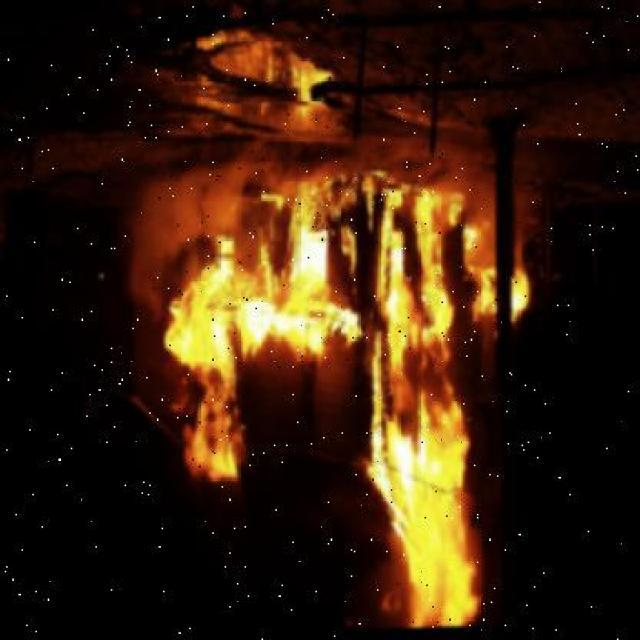Fire: (157, 196, 483, 638)
